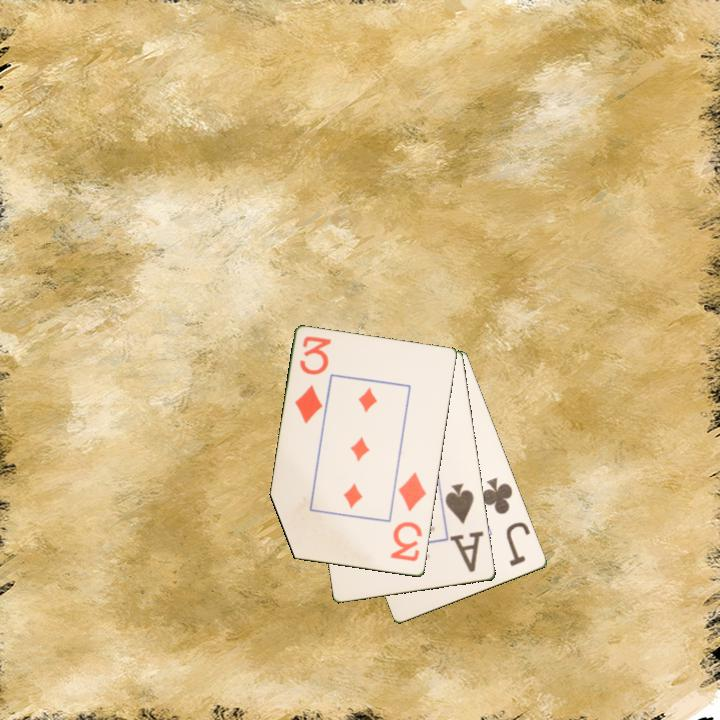3d: (291, 333, 334, 427), (387, 469, 429, 565)
As: (442, 480, 477, 566)
Jc: (478, 474, 534, 569)
